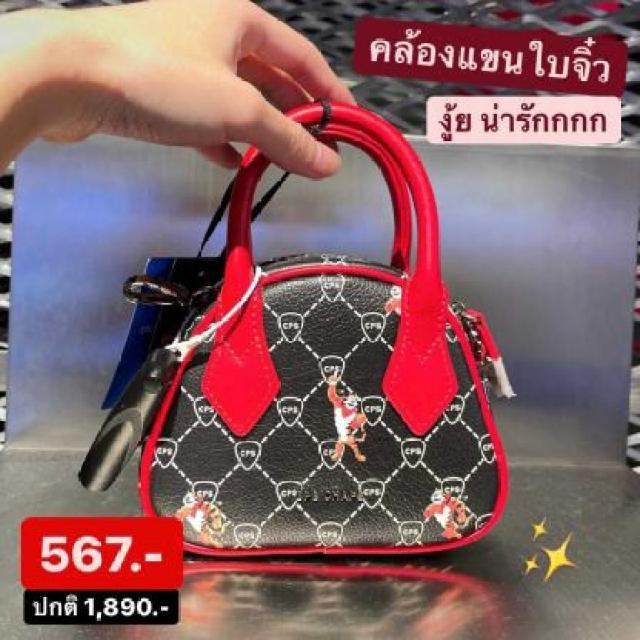Bag: (132, 75, 539, 573)
